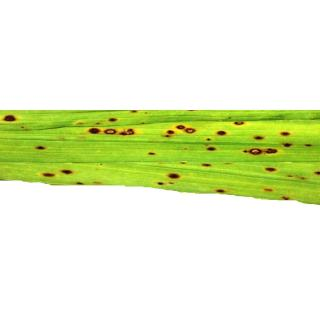bercak-Cokelat: (77, 116, 138, 142), (36, 167, 91, 190), (254, 184, 295, 206), (240, 146, 284, 162), (160, 121, 197, 140), (153, 170, 181, 192), (277, 129, 295, 154), (2, 113, 23, 133), (31, 143, 54, 159), (288, 168, 308, 186), (204, 135, 219, 157), (263, 161, 283, 177), (229, 115, 247, 132), (214, 184, 232, 199), (144, 148, 163, 161), (196, 160, 213, 173), (216, 127, 228, 141), (304, 139, 314, 154), (311, 168, 320, 182), (252, 136, 267, 144)
